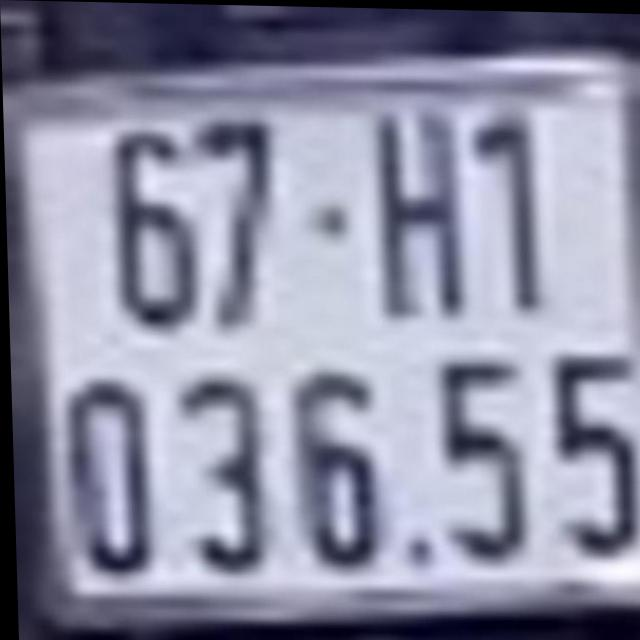0: (54, 357, 148, 575)
1: (470, 105, 546, 306)
3: (177, 360, 268, 566)
5: (439, 340, 526, 560), (547, 345, 638, 549)
6: (284, 355, 380, 563), (113, 121, 191, 331)
7: (192, 116, 285, 325)
H: (372, 102, 465, 315)
